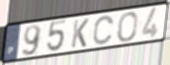4: (141, 5, 161, 40)
5: (45, 19, 67, 54)
9: (21, 24, 44, 57)
C: (92, 14, 116, 46)
K: (70, 18, 91, 49)
O: (116, 11, 139, 44)
